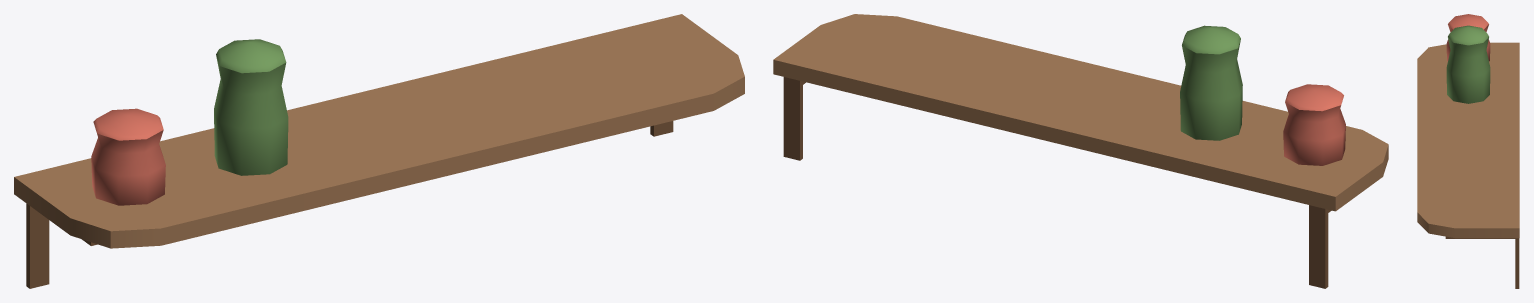
File: mensola.fbx
3 views of the same model, side by side, from view 1: azimuth 30°, elevation 25°; view 2: azimuth 150°, elevation 25°; view 3: azimuth 270°, elevation 25° (orthographic). The views are drawn at different scales.
Parts seen in each view (by area): view 1: Mensola; view 2: Mensola; view 3: Mensola.
Part boxes in pixels (x1,y1,x2,y2): Mensola: [14, 14, 744, 288]; Mensola: [773, 14, 1388, 288]; Mensola: [1417, 14, 1519, 288].
Bounding box in the file's own units: 4.31 × 1.43 × 1.
